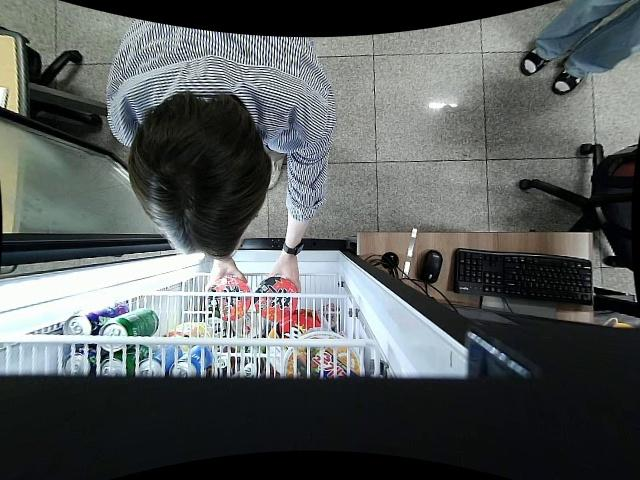00_hand: (201, 258, 248, 289), (268, 257, 302, 296)
01_shinRamen_L: (202, 277, 251, 322), (255, 277, 300, 322)
